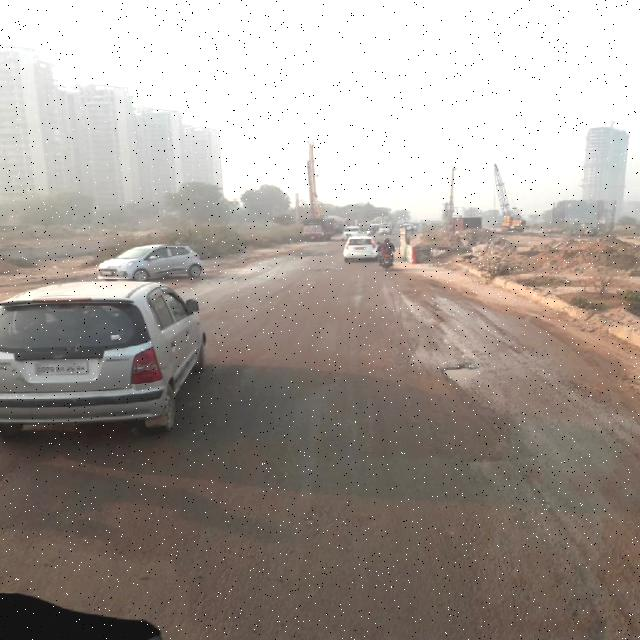D40: (433, 348, 499, 406)
